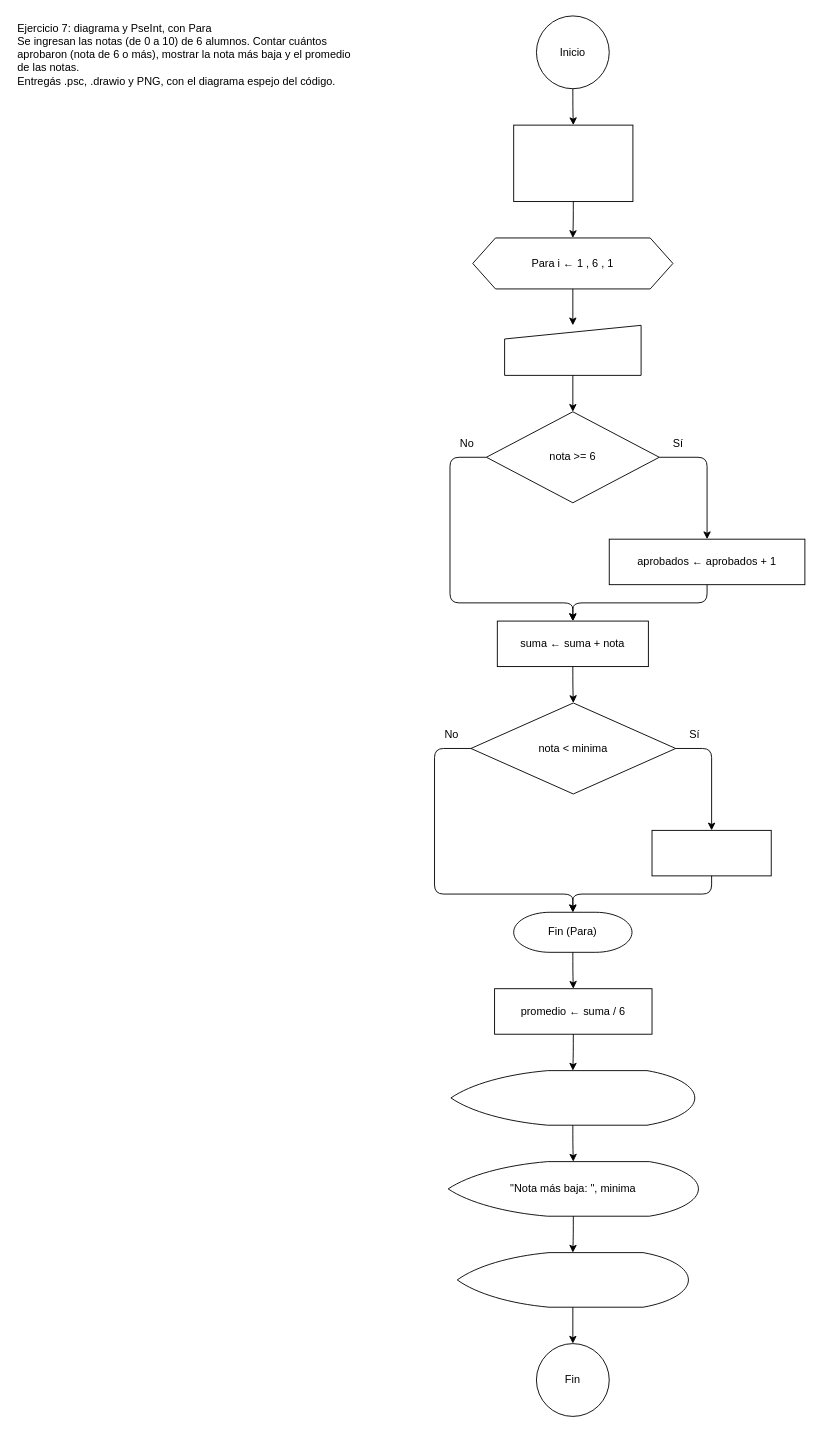
Image size: 821x1432. Some labels were removed from this diagram. The shapes that lost their labels are listed below. From the top down, each one's box as (x1, y1, x2, y2) in pixels, then its label:
(513, 124, 633, 202): aprobados ← 0 suma ← 0 minima ← 11
(504, 324, 641, 375): nota
(651, 829, 771, 876): minima ← nota
(450, 1070, 695, 1125): "Aprobados: ", aprobados
(456, 1252, 688, 1307): "Promedio: ", promedio
